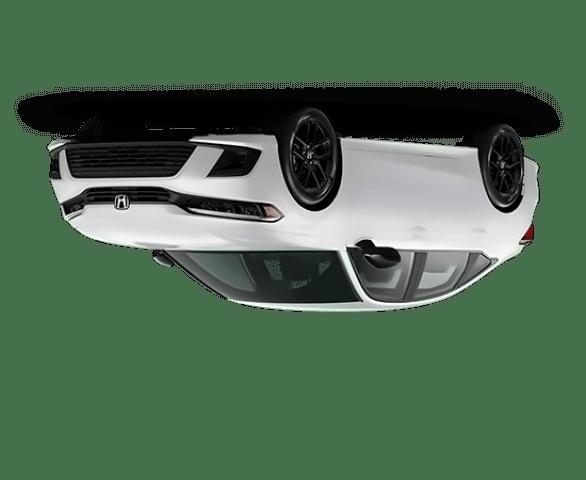Car hood: (70, 202, 344, 263)
Driver-s door - -F-R-: (334, 129, 435, 319)
Fender - -F-R-: (263, 132, 358, 279)
Fender - -R-R-: (458, 143, 538, 270)
Front bumper: (44, 131, 301, 214)
Headlight - -L-: (58, 195, 85, 226)
Headlight - -R-: (179, 195, 283, 225)
Passenger-s door - -R-R-: (392, 122, 495, 314)
Rear light - -R-: (517, 224, 537, 249)
Side bumper - -R-: (329, 126, 491, 201)
Side mirror - -R-: (349, 233, 400, 273)
